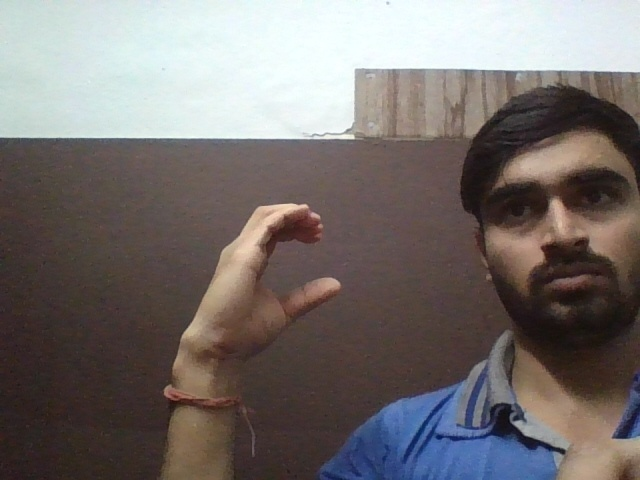C: (193, 192, 351, 354)
